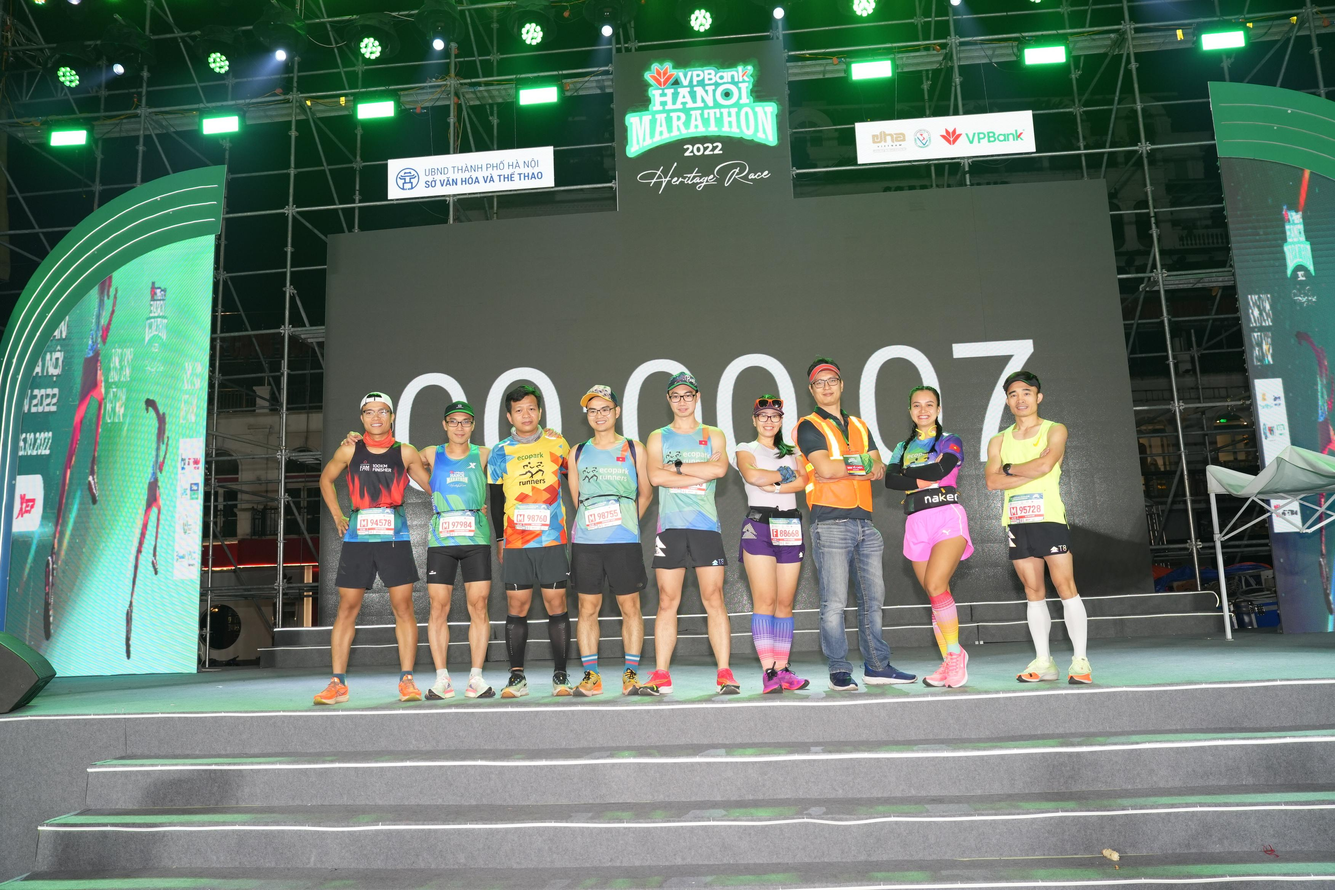bib: (585, 501, 622, 530), (514, 503, 551, 531), (770, 516, 803, 547), (1008, 493, 1044, 521), (357, 508, 394, 533), (440, 510, 474, 536), (671, 482, 706, 495)
